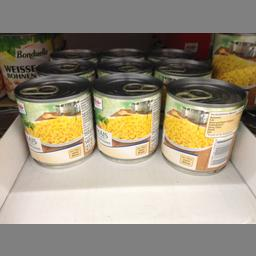corn: (159, 78, 247, 175), (12, 74, 94, 169), (92, 70, 162, 164)
